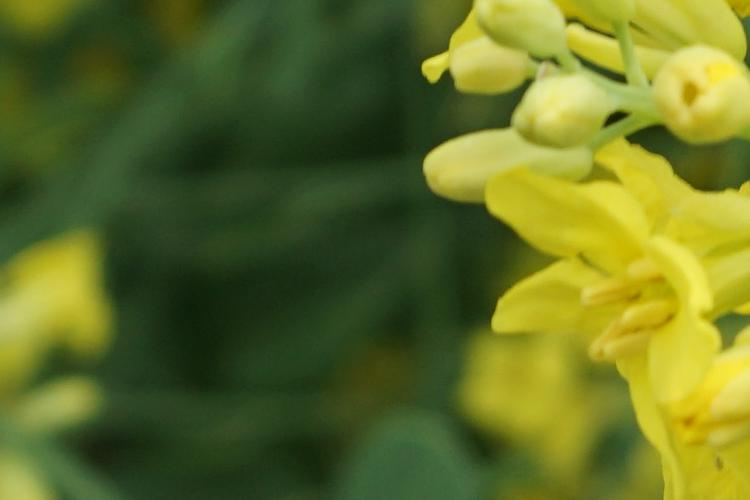bud: (417, 121, 603, 200), (657, 43, 748, 148), (523, 70, 612, 148), (446, 35, 533, 96), (486, 5, 579, 55)
yellow: (493, 154, 749, 355), (606, 318, 750, 497)
